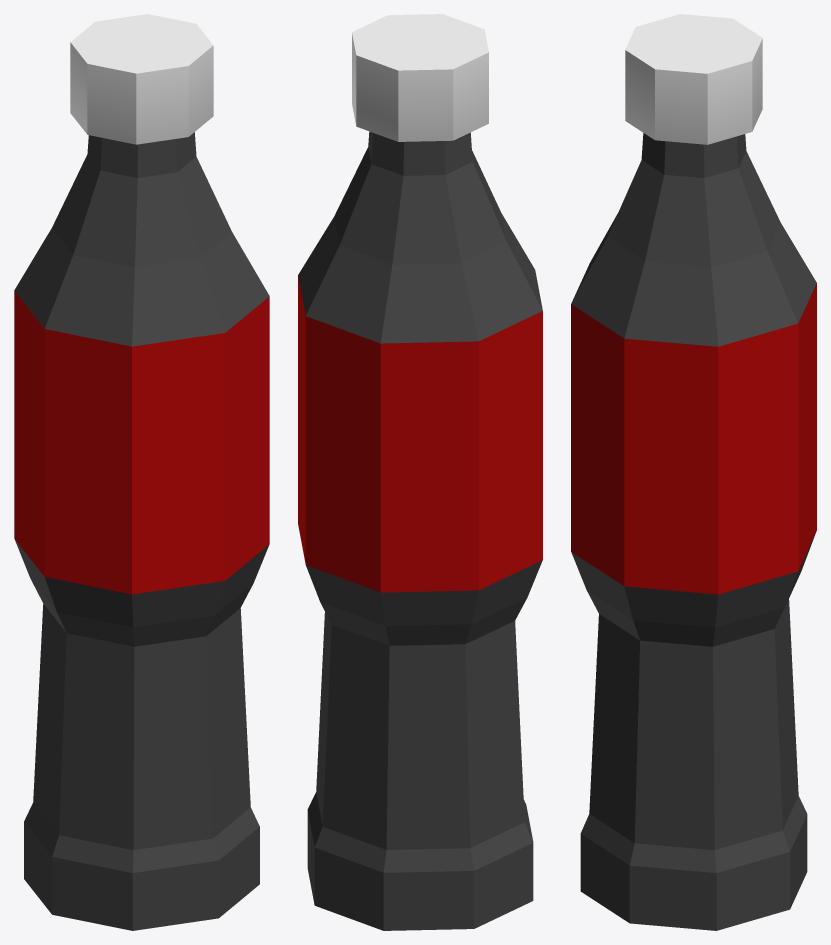
The model's file is Bottle.fbx.
3 renders of one model, left to right at view 1: azimuth 30°, elevation 25°; view 2: azimuth 150°, elevation 25°; view 3: azimuth 270°, elevation 25°, orthographic.
Parts seen in each view (by area): view 1: Bottle.001; view 2: Bottle.001; view 3: Bottle.001.
Part boxes in pixels (x1=…): Bottle.001: x1=14, y1=14, x2=269, y2=930; Bottle.001: x1=298, y1=14, x2=542, y2=930; Bottle.001: x1=571, y1=14, x2=816, y2=930.
Size of the model in its own units: 11.01 by 40.21 by 10.69.
